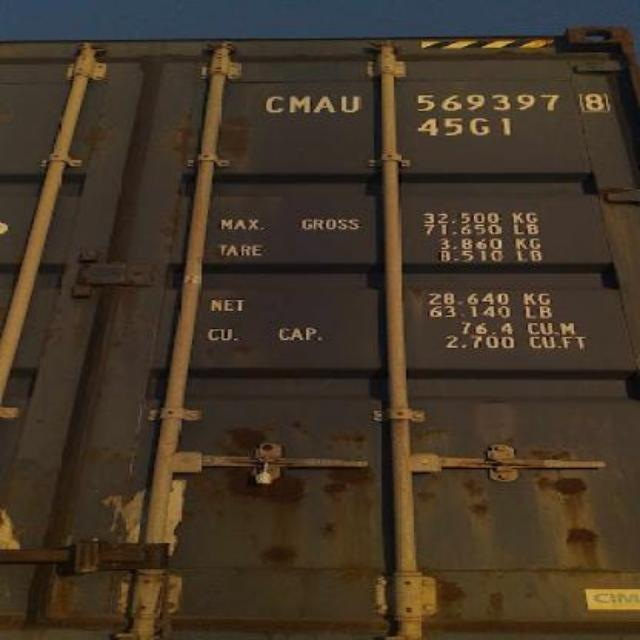3: (491, 94, 512, 110)
5: (412, 93, 436, 111)
6: (436, 93, 462, 111)
7: (536, 91, 562, 112)
8: (578, 92, 606, 112)
9: (514, 93, 538, 111), (464, 93, 486, 111)
A: (314, 91, 336, 112)
C: (260, 94, 288, 114)
M: (286, 93, 312, 113)
U: (336, 93, 362, 113)
